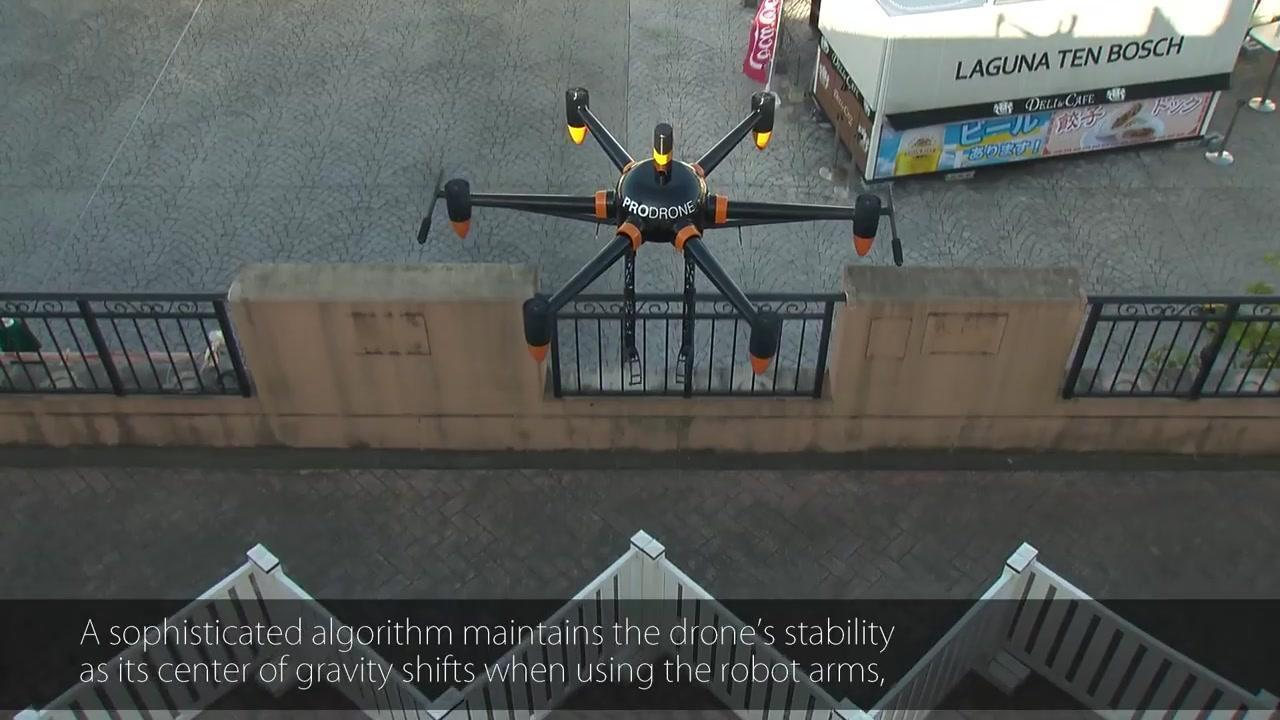UAV: (418, 87, 907, 379)
